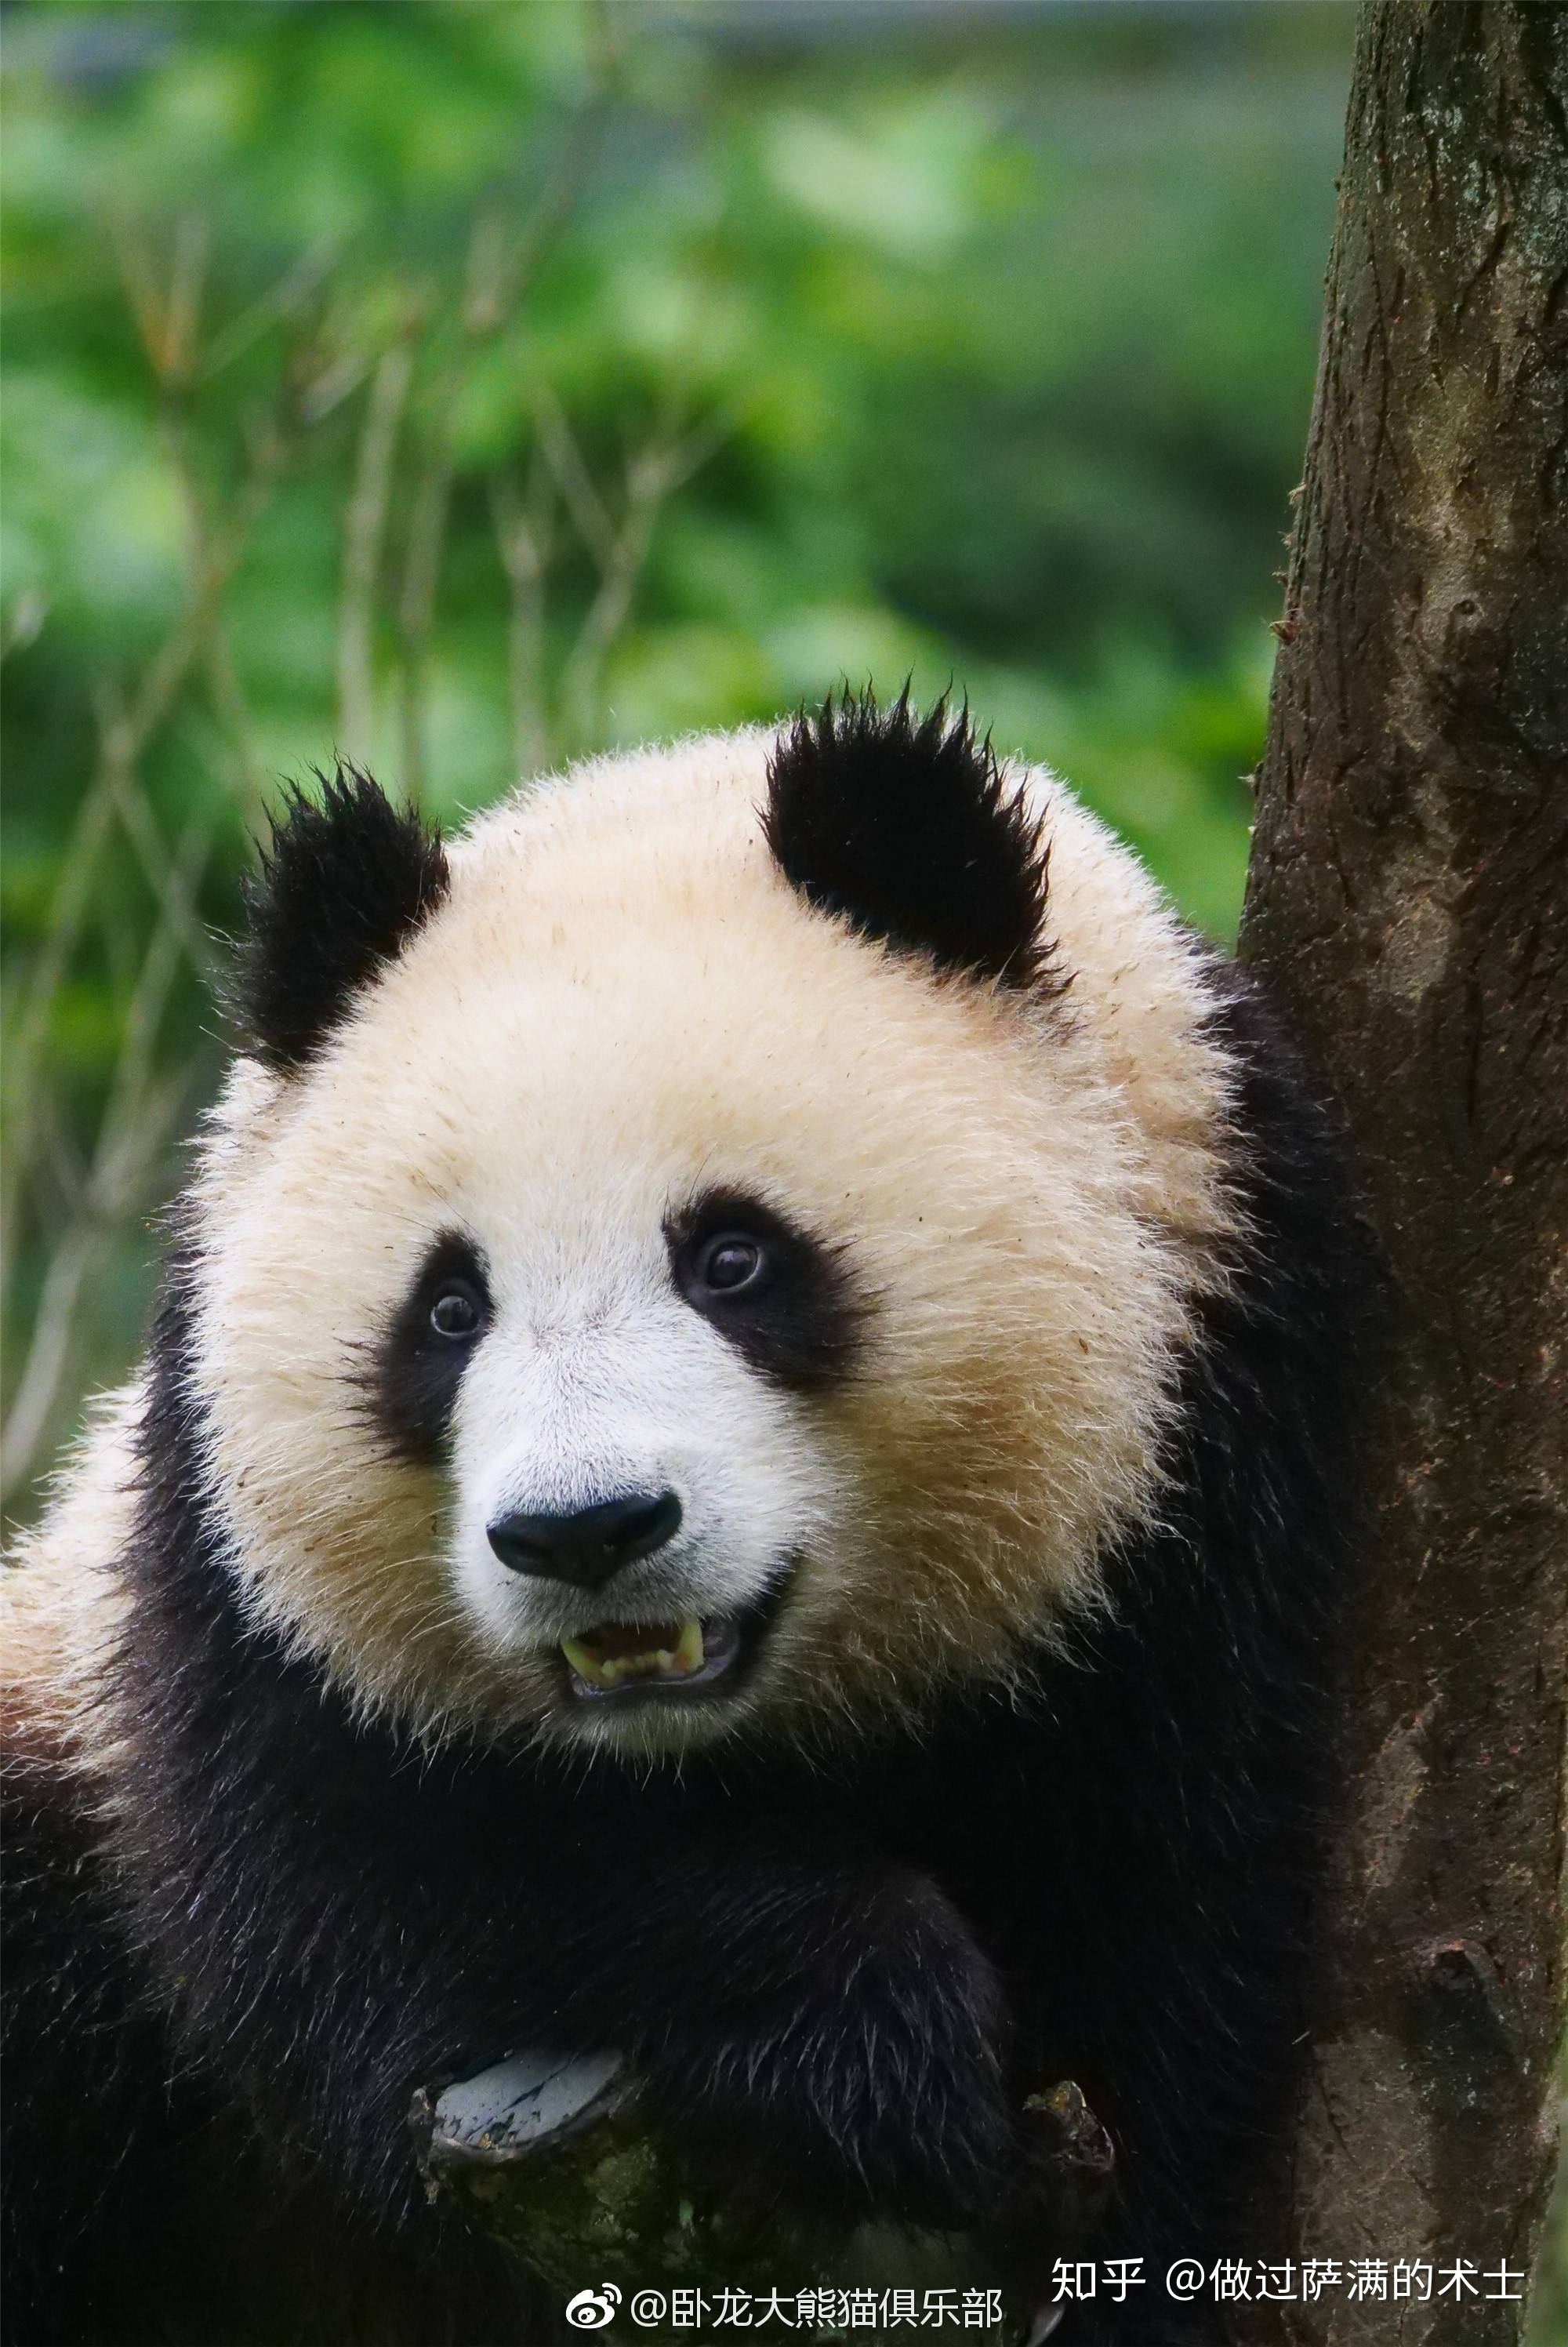panda: (47, 588, 1304, 2160)
